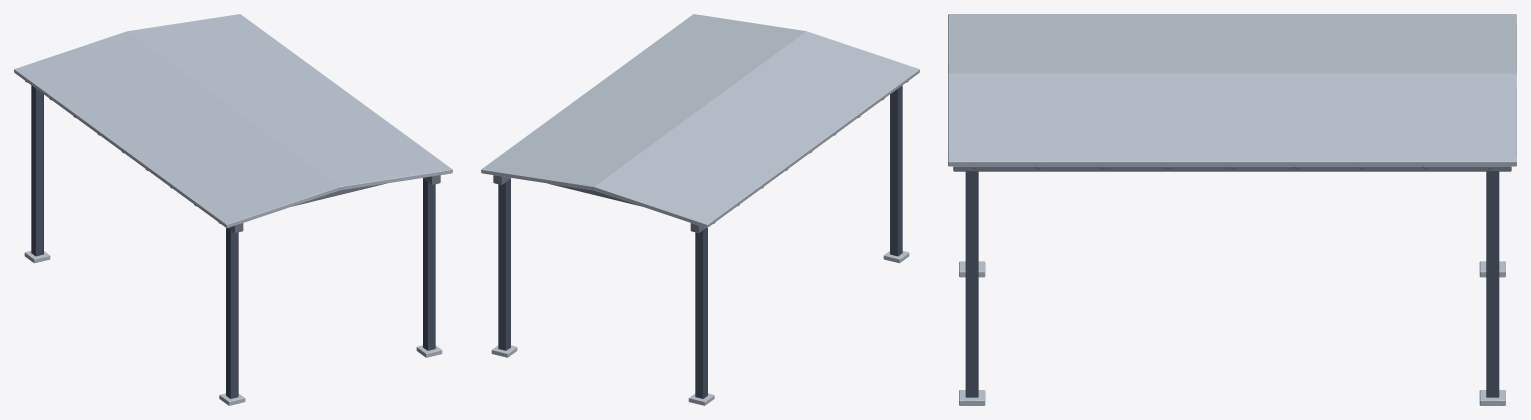
Rendered from 庭院车棚-lite.glb.
The picture shows the model from 3 angles, left to right: view 1: azimuth 30°, elevation 25°; view 2: azimuth 150°, elevation 25°; view 3: azimuth 270°, elevation 25°; orthographic projection. The views are drawn at different scales.
Parts seen in each view (by area): view 1: garden-carport; view 2: garden-carport; view 3: garden-carport.
Boxes of the visible parts, bbox=[...] form: garden-carport: bbox=[14, 14, 452, 405]; garden-carport: bbox=[481, 14, 919, 405]; garden-carport: bbox=[948, 14, 1516, 405].
Size of the model in its own units: 3.2 by 2.65 by 5.2.
